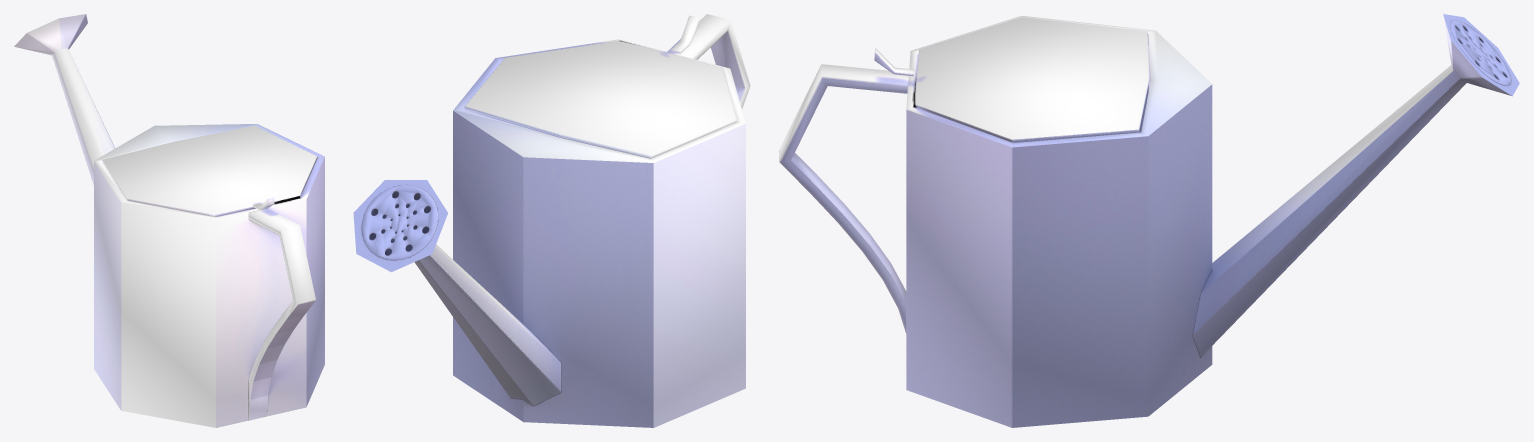
Rendered from GardenDo_bucket_02.glb.
3 views of the same model, side by side, from view 1: azimuth 30°, elevation 25°; view 2: azimuth 150°, elevation 25°; view 3: azimuth 270°, elevation 25° (orthographic). The views are drawn at different scales.
Parts seen in each view (by area): view 1: rpgpp_lt_bucket_body.001, rpgpp_lt_bucket_cover.001; view 2: rpgpp_lt_bucket_body.001, rpgpp_lt_bucket_cover.001, rpgpp_lt_bucket_button.001; view 3: rpgpp_lt_bucket_body.001, rpgpp_lt_bucket_cover.001.
Part boxes in pixels (box(x1,y1,x2,y2)): rpgpp_lt_bucket_body.001: box(14, 14, 324, 427); rpgpp_lt_bucket_cover.001: box(102, 125, 317, 216); rpgpp_lt_bucket_body.001: box(353, 14, 750, 427); rpgpp_lt_bucket_cover.001: box(464, 40, 736, 158); rpgpp_lt_bucket_button.001: box(671, 15, 698, 53); rpgpp_lt_bucket_body.001: box(779, 14, 1519, 427); rpgpp_lt_bucket_cover.001: box(914, 17, 1149, 142).
Size of the model in its own units: 0.1972 by 0.2404 by 0.4685.
Materials: 1 (1 with a texture image).
